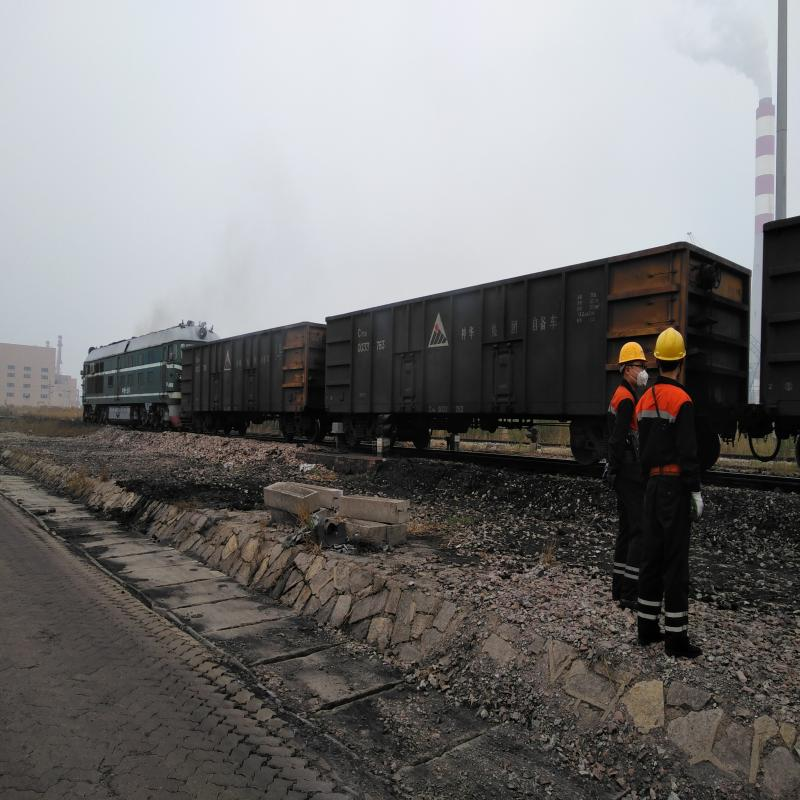train: (322, 311, 496, 451), (79, 327, 212, 426)
